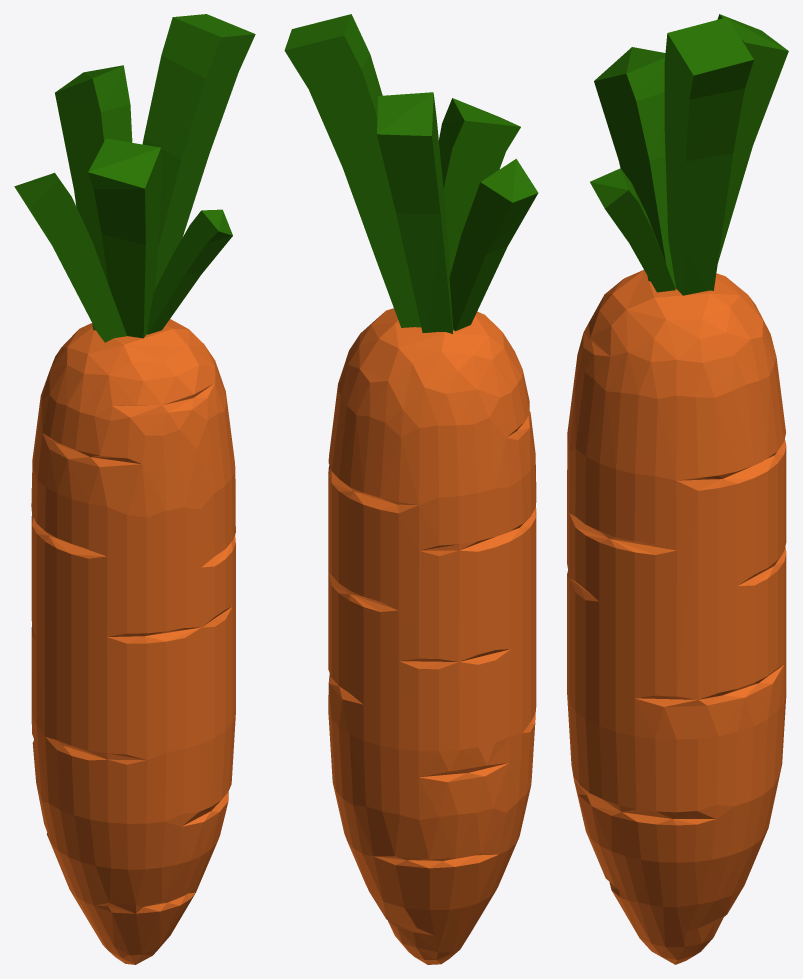
The model's file is carrot.fbx.
3 views of the same model, side by side, from view 1: azimuth 30°, elevation 25°; view 2: azimuth 150°, elevation 25°; view 3: azimuth 270°, elevation 25° (orthographic). The views are drawn at different scales.
Visible parts, largest first — view 1: Buah.003, Cube.007; view 2: Buah.003, Cube.007; view 3: Buah.003, Cube.007.
Boxes of the visible parts, x1,y1,x2,y2 form: Buah.003: (31,319,235,964); Cube.007: (14,14,255,342); Buah.003: (328,308,536,964); Cube.007: (284,14,538,333); Buah.003: (567,270,786,964); Cube.007: (590,14,788,295).
Bounding box in the file's own units: 413 × 1540 × 317.
